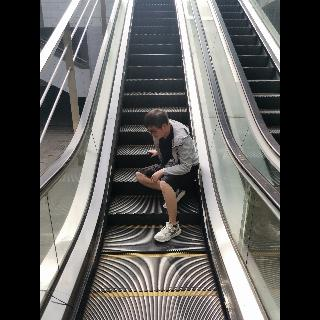anomaly: (139, 108, 203, 242)
